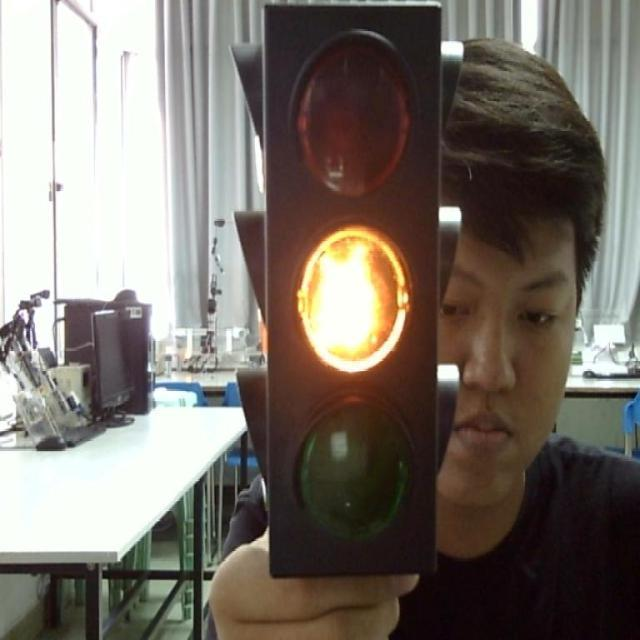yellow_light: (263, 3, 439, 574)
